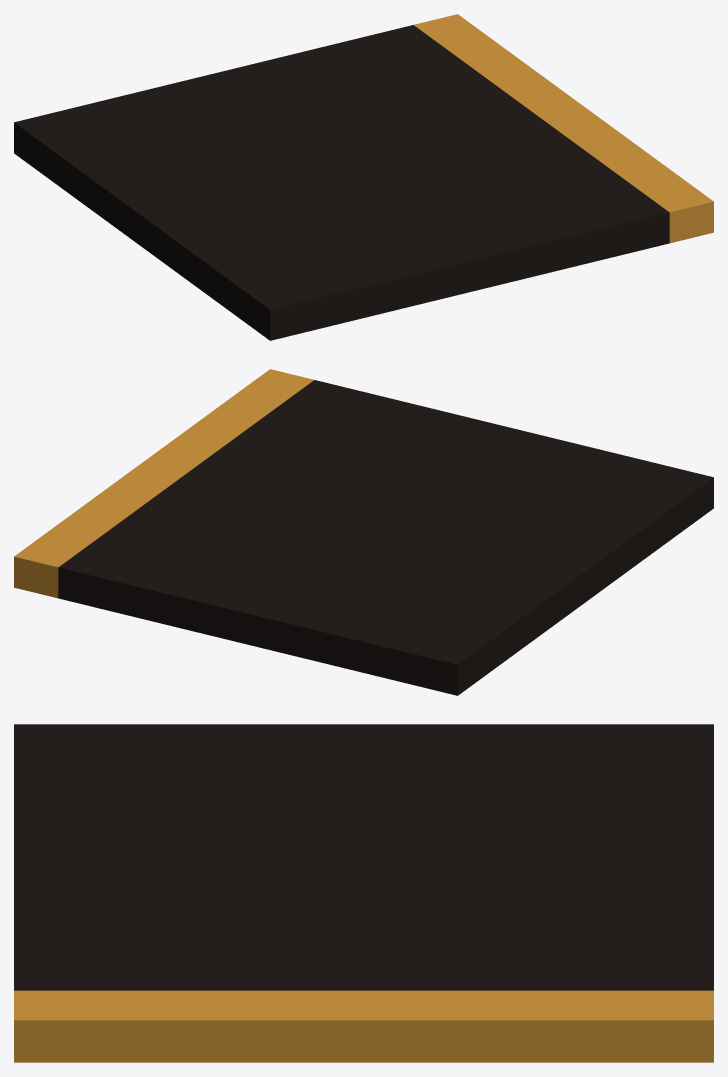
The model's file is 5m floor.FBX.
3 renders of one model, top to bottom at view 1: azimuth 30°, elevation 25°; view 2: azimuth 150°, elevation 25°; view 3: azimuth 270°, elevation 25°, orthographic. The views are drawn at different scales.
Parts seen in each view (by area): view 1: Box010; view 2: Box010; view 3: Box010.
Part boxes in pixels (x1,y1,x2,y2): Box010: (14,14,713,340); Box010: (14,369,713,695); Box010: (14,724,713,1062).
Size of the model in its own units: 5 by 0.334 by 5.
